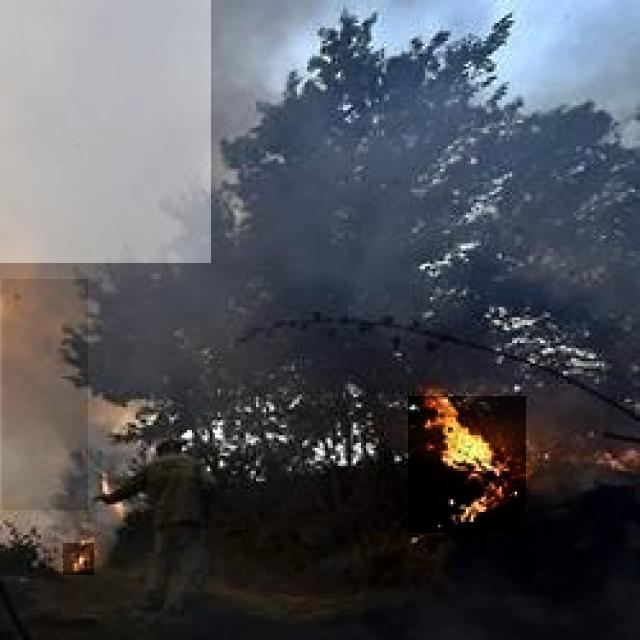Fire: (408, 396, 526, 533), (63, 543, 94, 575)
Smoke: (0, 0, 211, 263), (2, 279, 88, 510)
